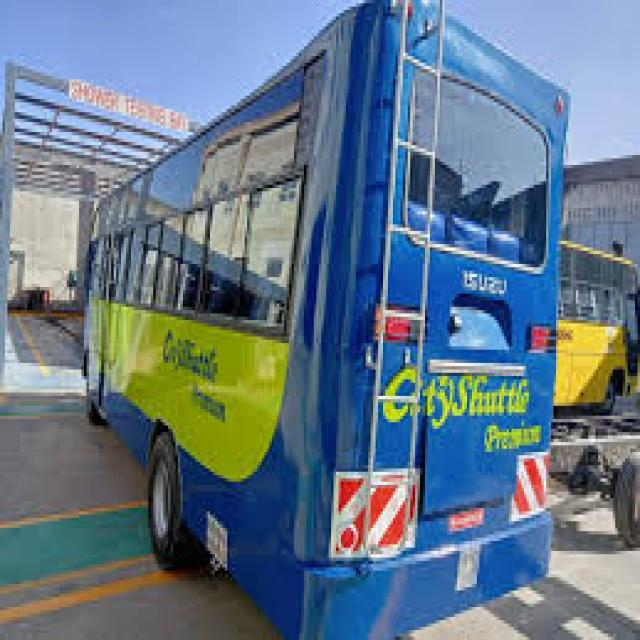bus: (68, 0, 576, 640)
